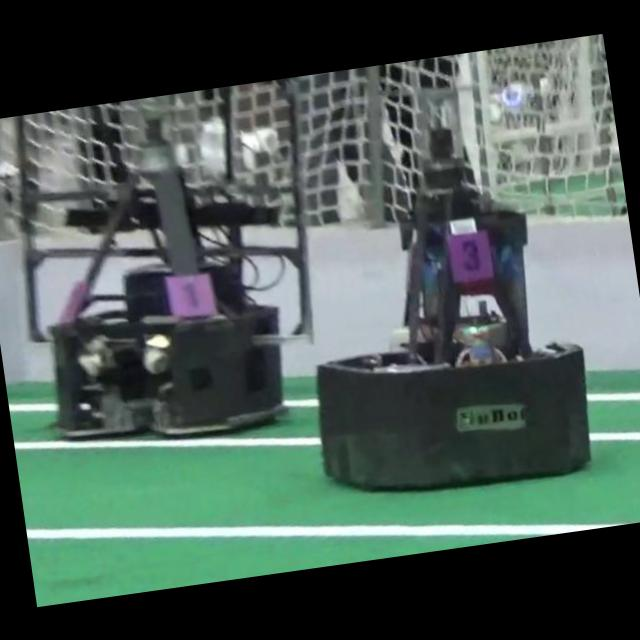robot: (318, 87, 590, 488), (17, 78, 312, 437)
